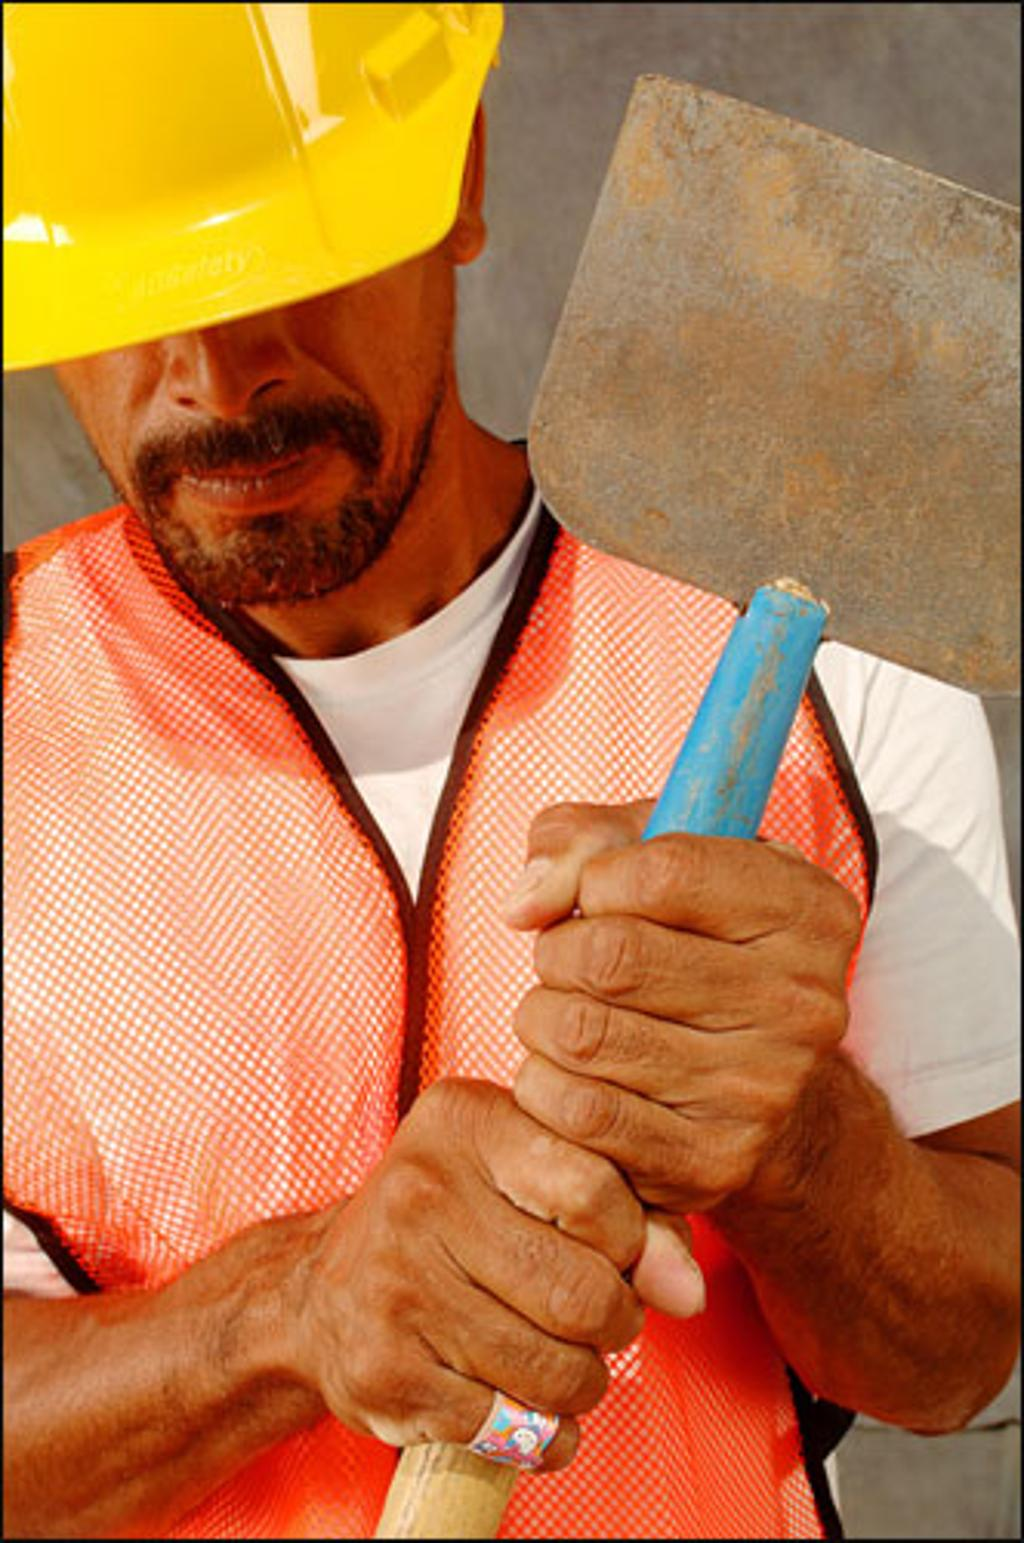face: (45, 24, 424, 548)
